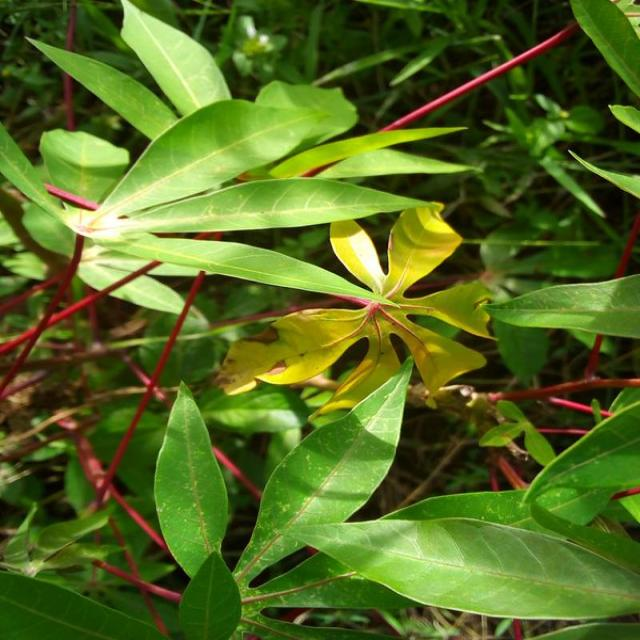cassava leaf: (231, 353, 414, 588), (153, 379, 229, 579)
